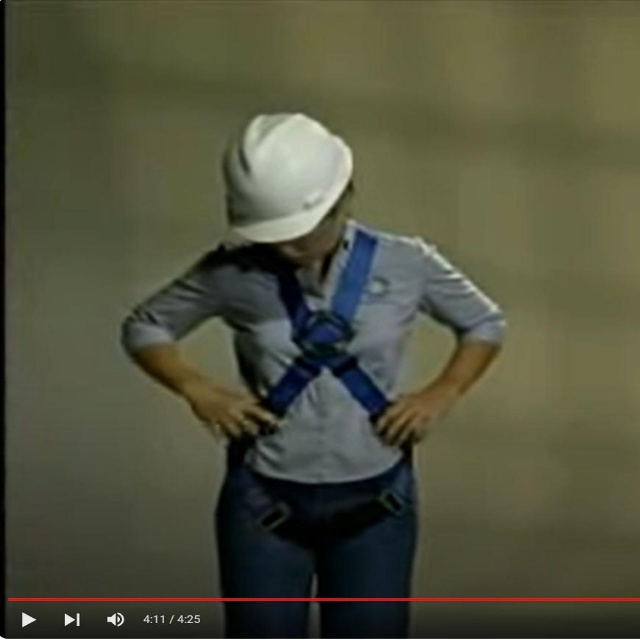Arnes_seguridad: (219, 227, 422, 558)
